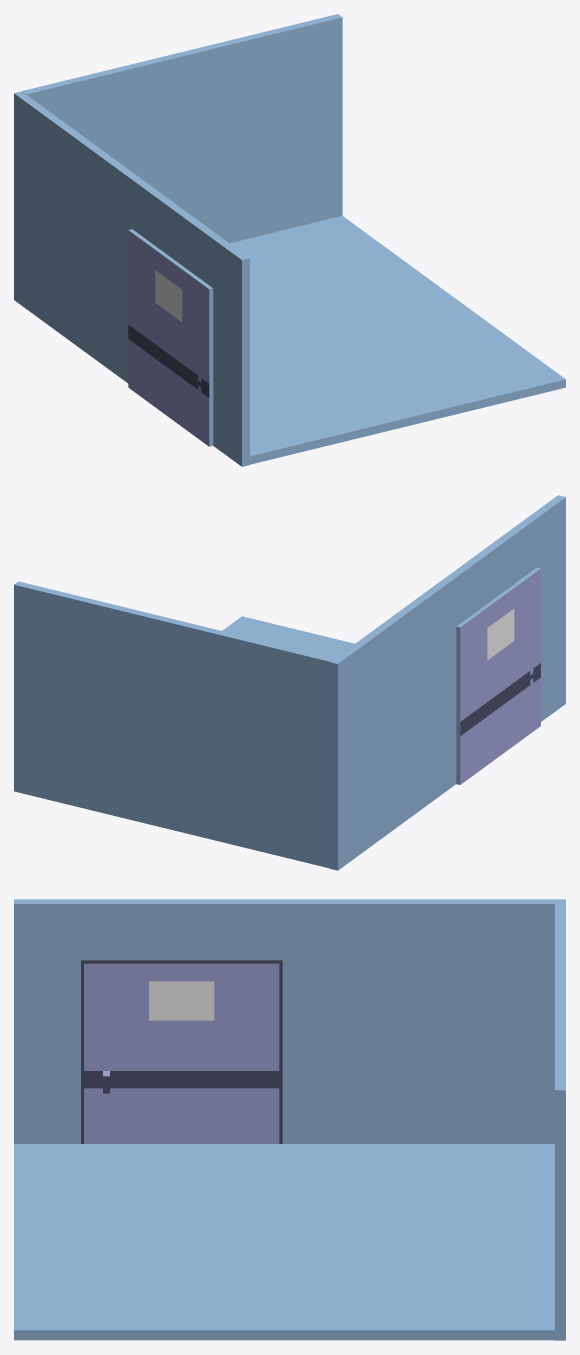
The model's file is Operating Room.fbx.
3 views of the same model, one above another, from view 1: azimuth 30°, elevation 25°; view 2: azimuth 150°, elevation 25°; view 3: azimuth 270°, elevation 25° (orthographic). The views are drawn at different scales.
Visible parts, largest first — view 1: Raum; view 2: Raum; view 3: Raum.
Part boxes in pixels (<box>): Raum: <box>14,14,565,466</box>; Raum: <box>14,495,565,870</box>; Raum: <box>14,899,565,1340</box>.
Bounding box in the file's own units: 8.3 × 5.01 × 10.
